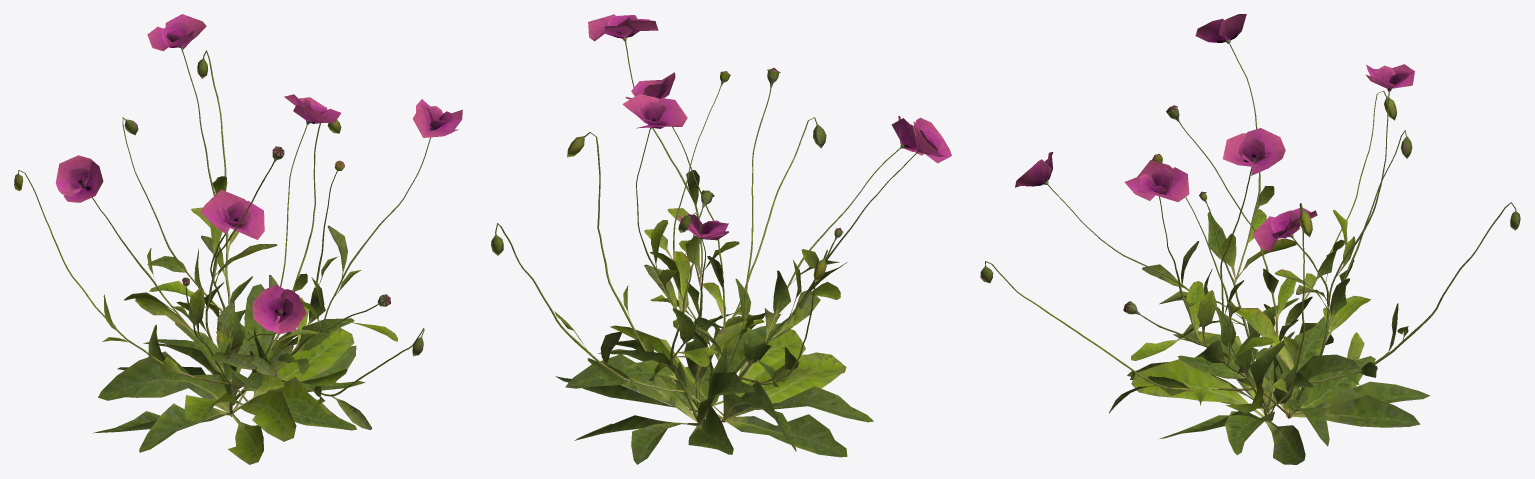
File: Poppy_bush_long_pink.glb
3 renders of one model, left to right at view 1: azimuth 30°, elevation 25°; view 2: azimuth 150°, elevation 25°; view 3: azimuth 270°, elevation 25°, orthographic. The views are drawn at different scales.
Parts seen in each view (by area): view 1: large bush; view 2: large bush; view 3: large bush.
Part boxes in pixels (<box>): large bush: <box>14,14,462,464</box>; large bush: <box>491,14,951,464</box>; large bush: <box>980,14,1520,464</box>.
Size of the model in its own units: 6 by 5.32 by 7.44.
Materials: 1 (1 with a texture image).
